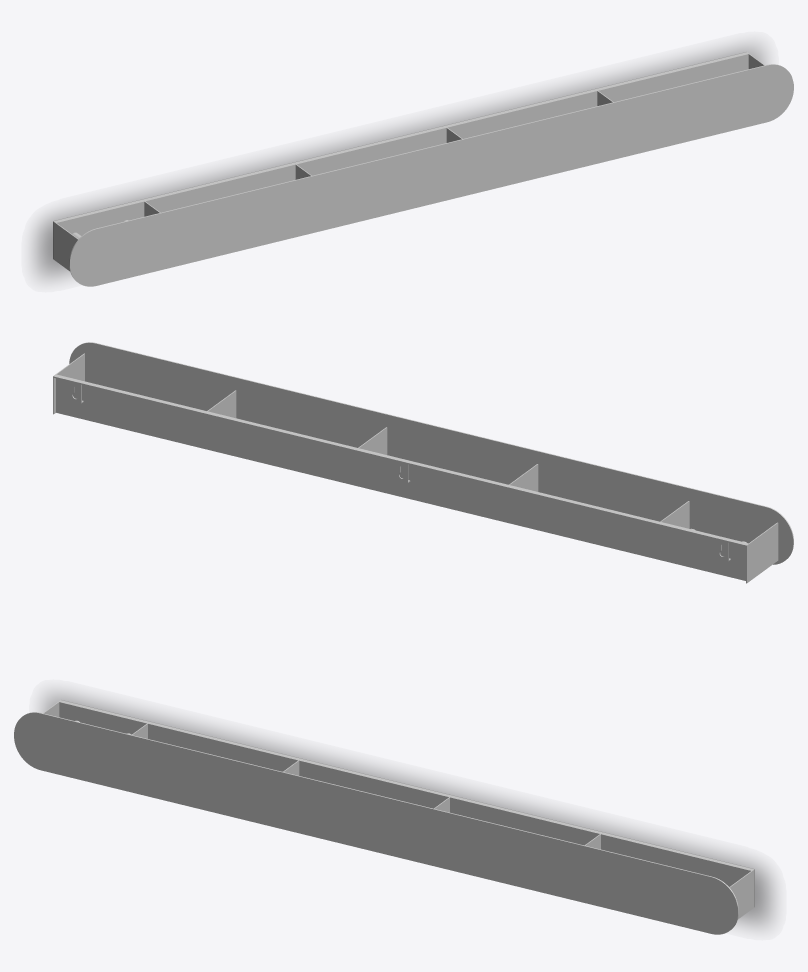
The model's file is round-patron.20de29c3ef.ar.glb.
3 renders of one model, top to bottom at view 1: azimuth 30°, elevation 25°; view 2: azimuth 150°, elevation 25°; view 3: azimuth 330°, elevation 25°, orthographic.
Parts seen in each view (by area): view 1: NAUO1, object 2; view 2: NAUO1; view 3: NAUO1, object 2.
Boxes of the visible parts, box(x1,y1,x2,y2) form: NAUO1: box(53, 52, 793, 286); object 2: box(33, 45, 766, 278); NAUO1: box(53, 342, 793, 583); NAUO1: box(14, 700, 754, 934); object 2: box(41, 693, 774, 926).
Size of the model in its own units: 1.28 by 0.17 by 0.092.
2 materials, 1 textured.
